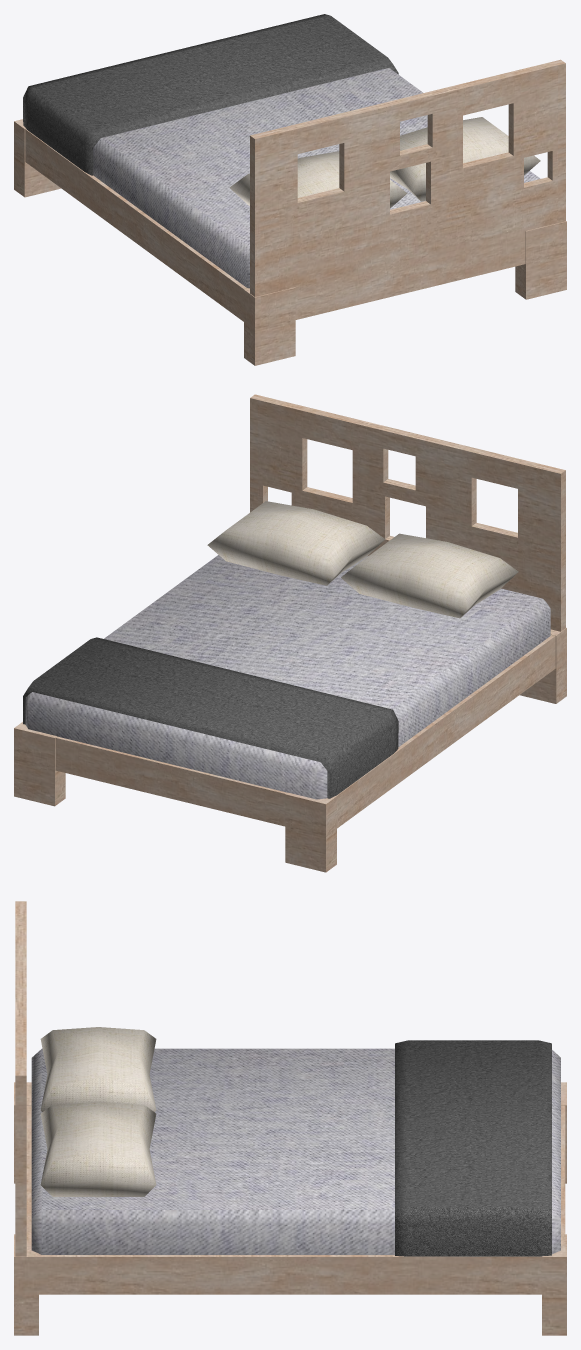
The model's file is Bed_07-col.glb.
3 renders of one model, top to bottom at view 1: azimuth 30°, elevation 25°; view 2: azimuth 150°, elevation 25°; view 3: azimuth 270°, elevation 25°, orthographic. The views are drawn at different scales.
Visible parts, largest first — view 1: Bed_07-col, Pillow_10, Pillow_11; view 2: Bed_07-col, Pillow_11, Pillow_10; view 3: Bed_07-col, Pillow_10, Pillow_11.
Boxes of the visible parts, x1,y1,x2,y2 form: Bed_07-col: [14, 14, 566, 365]; Pillow_10: [390, 117, 540, 201]; Pillow_11: [229, 151, 407, 208]; Bed_07-col: [14, 394, 566, 872]; Pillow_11: [341, 533, 518, 618]; Pillow_10: [207, 501, 385, 585]; Bed_07-col: [14, 901, 566, 1335]; Pillow_10: [40, 1101, 156, 1197]; Pillow_11: [40, 1027, 156, 1111].
Bounding box in the file's own units: 2.14 × 1.48 × 2.86.
Materials: 4 (4 with a texture image).
